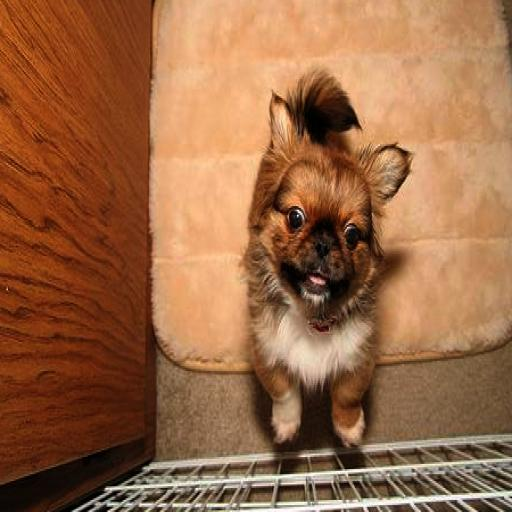dog_face: (248, 93, 413, 326)
